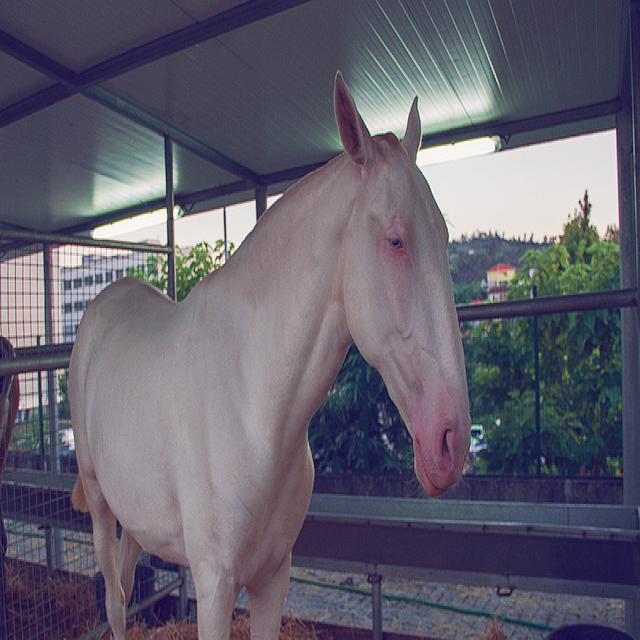Vehicle: (32, 429, 78, 475), (471, 425, 487, 447)
